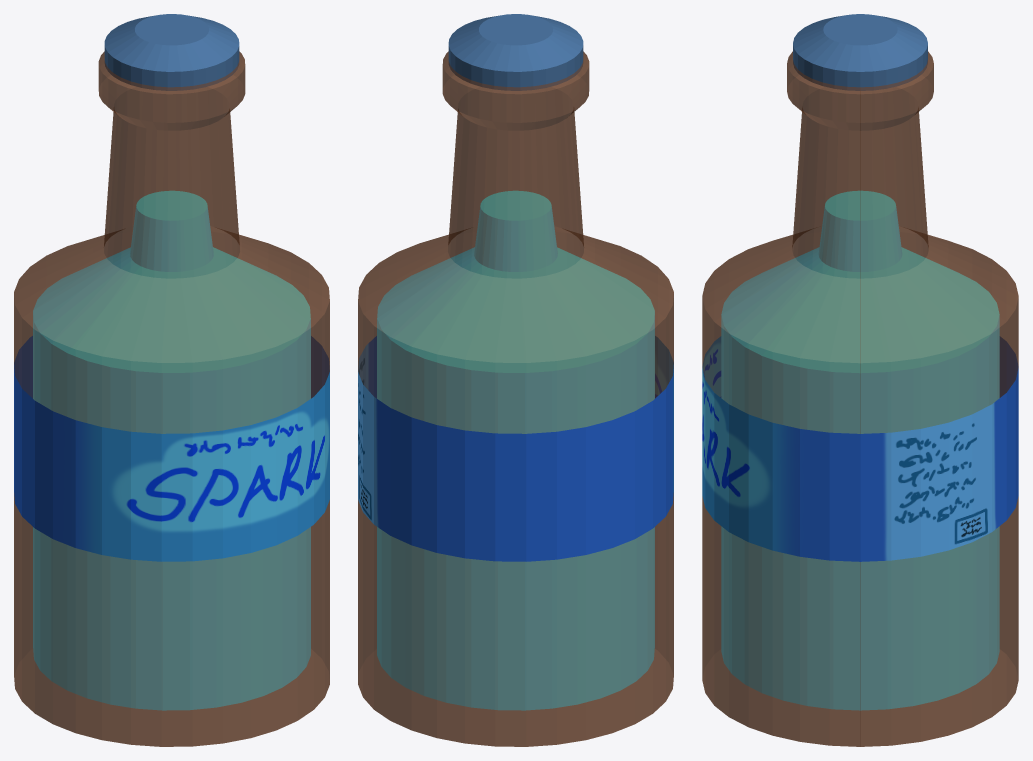
File: Spark Soda.glb
The picture shows the model from 3 angles, left to right: view 1: azimuth 30°, elevation 25°; view 2: azimuth 150°, elevation 25°; view 3: azimuth 270°, elevation 25°; orthographic projection.
Parts seen in each view (by area): view 1: Botle, Juice, Lable, Cap; view 2: Botle, Juice, Lable, Cap; view 3: Botle, Juice, Lable, Cap.
Part boxes in pixels (left/top/right/bottom): Botle: left=14, top=51, right=329, bottom=746; Juice: left=33, top=191, right=310, bottom=710; Lable: left=14, top=336, right=329, bottom=561; Cap: left=104, top=14, right=239, bottom=90; Botle: left=358, top=51, right=673, bottom=746; Juice: left=377, top=191, right=654, bottom=710; Lable: left=358, top=336, right=673, bottom=561; Cap: left=448, top=14, right=583, bottom=90; Botle: left=702, top=51, right=1018, bottom=746; Juice: left=721, top=191, right=999, bottom=710; Lable: left=702, top=336, right=1018, bottom=561; Cap: left=793, top=14, right=927, bottom=90.
Bounding box in the file's own units: 0.1624 × 0.3682 × 0.1624.
4 materials, 1 textured.
